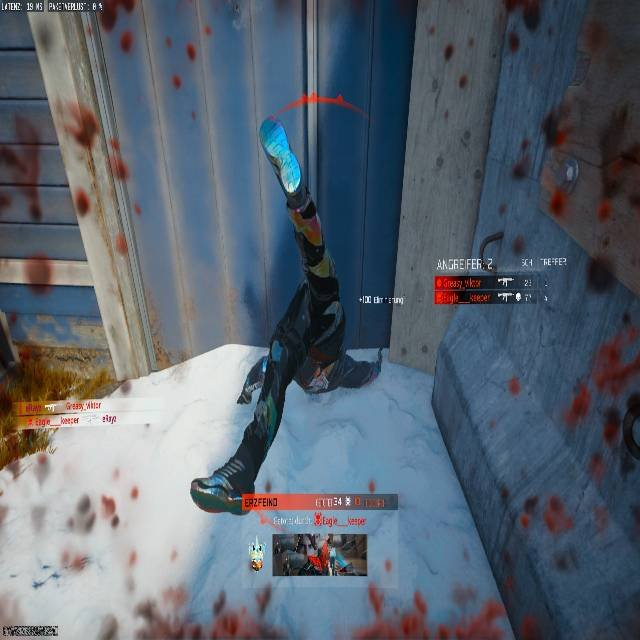player: (186, 76, 386, 616)
